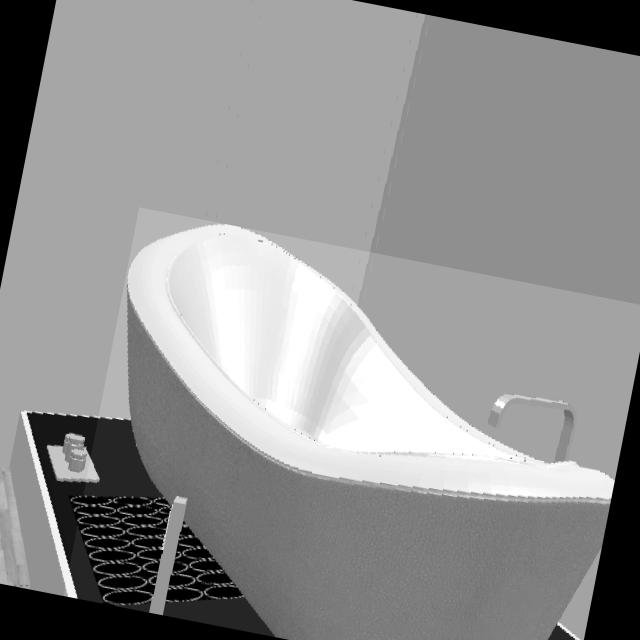bathtube: (127, 224, 615, 640)
